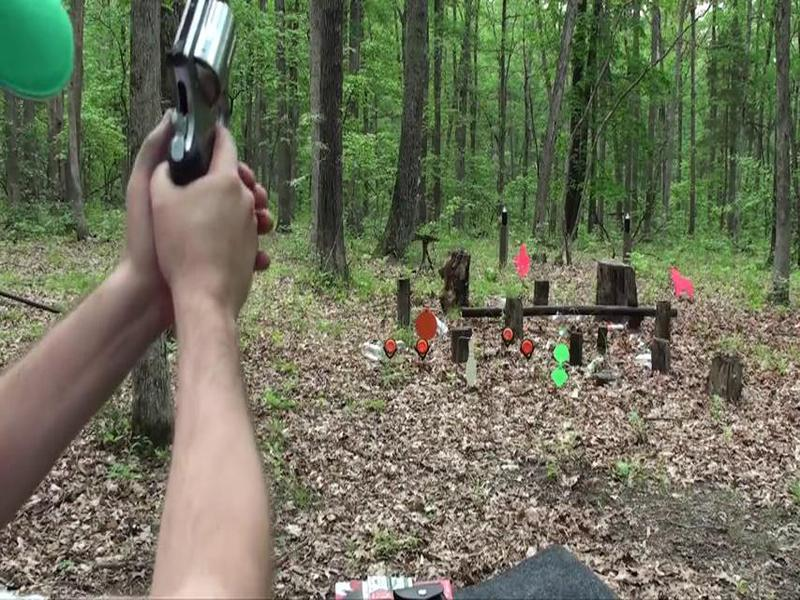Revolver: (126, 1, 285, 227)
